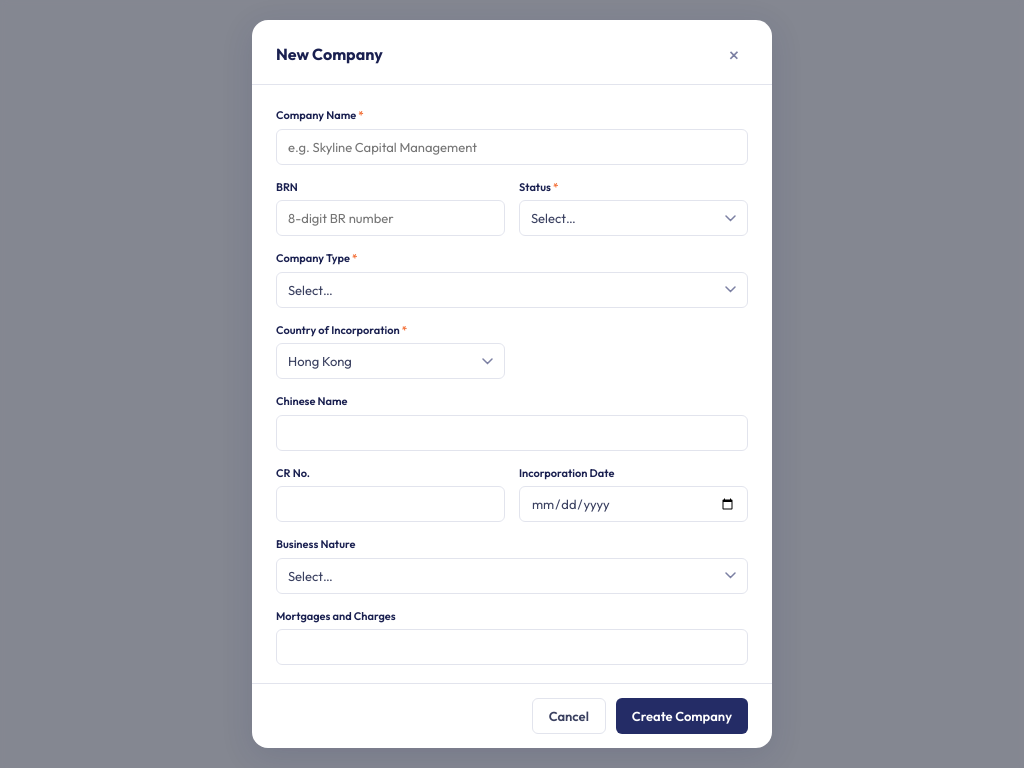
Scenario: AddCompanyModal — discard guard (UAT F-1) › treats a changed country of incorporation as an edit worth guarding
The image size is (1024, 768).
Select "United Kingdom" in the dropdown labelled "Country of Incorporation *" at [390, 361], box [276, 343, 505, 379]
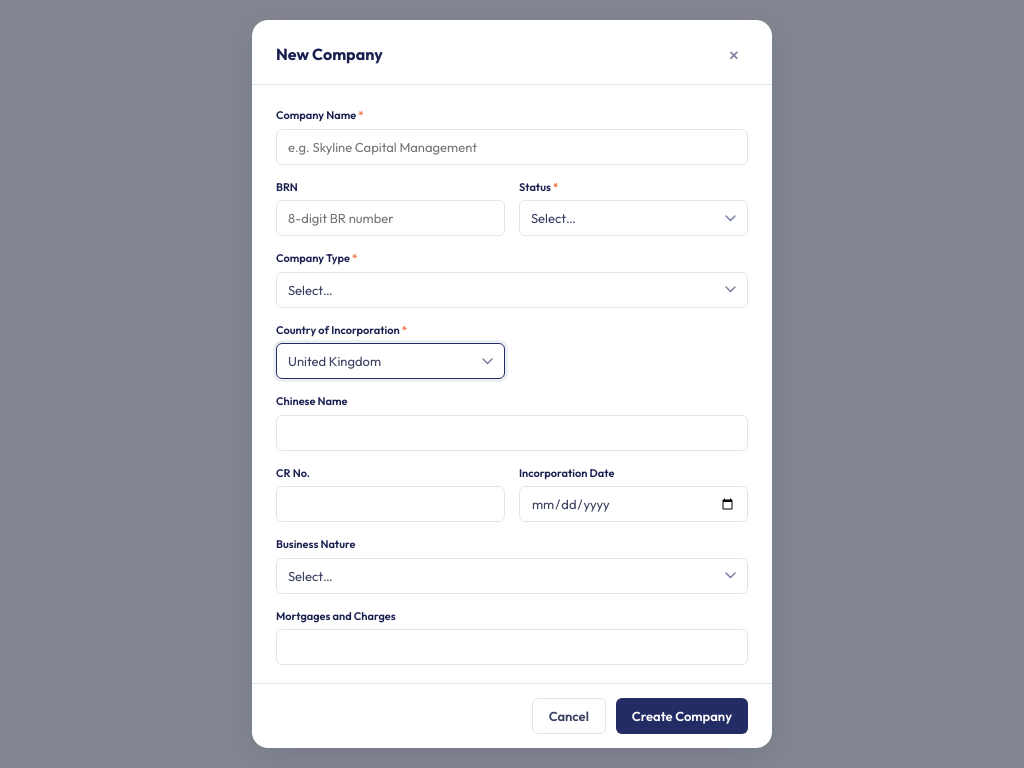
Click the element with class "overlay" at [61, 384], box [0, 0, 1023, 767]
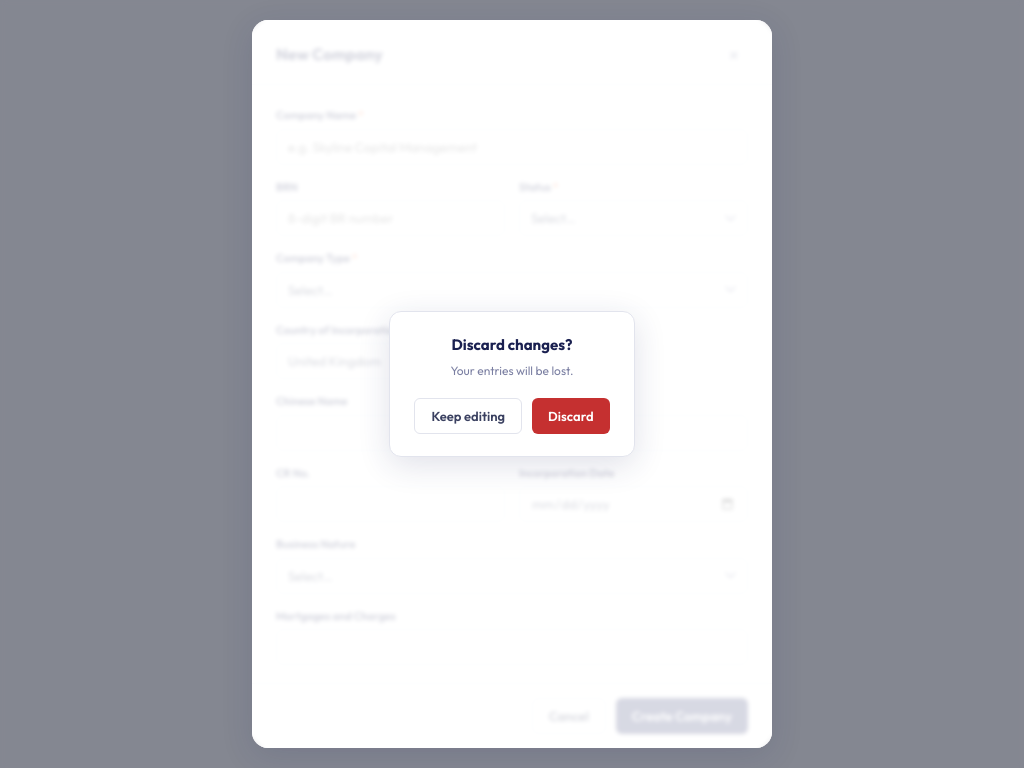
Check: the text "Discard changes?" is shown, box [451, 335, 572, 354]
